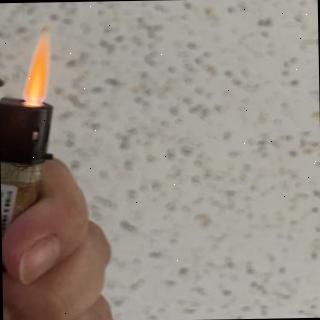fire: (22, 32, 52, 100)
